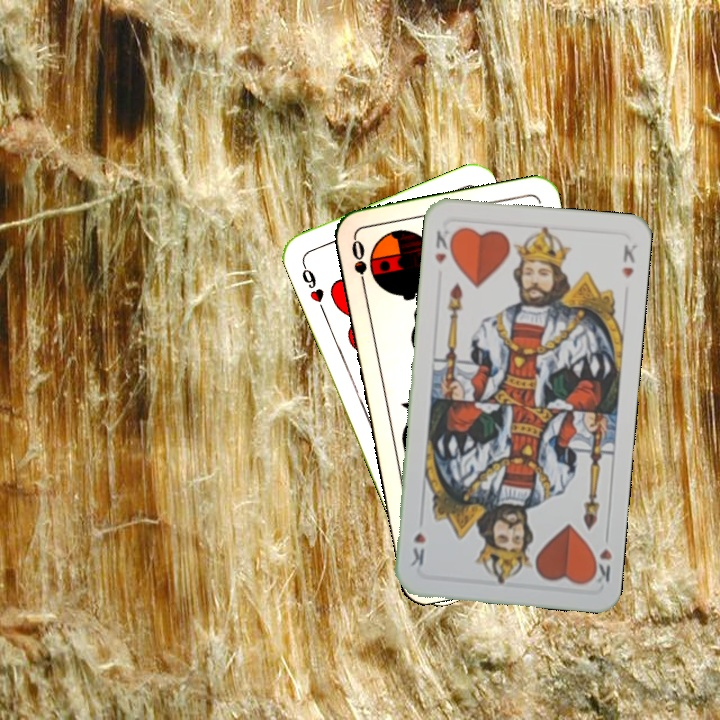H9: (297, 258, 327, 315)
HK: (586, 528, 615, 587), (430, 226, 457, 267)
SO: (347, 235, 370, 294)
